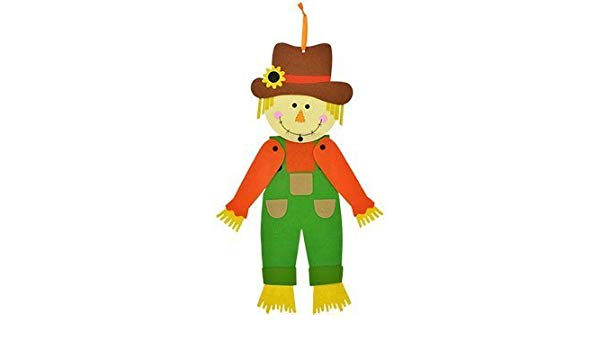person-like: (215, 1, 384, 319)
